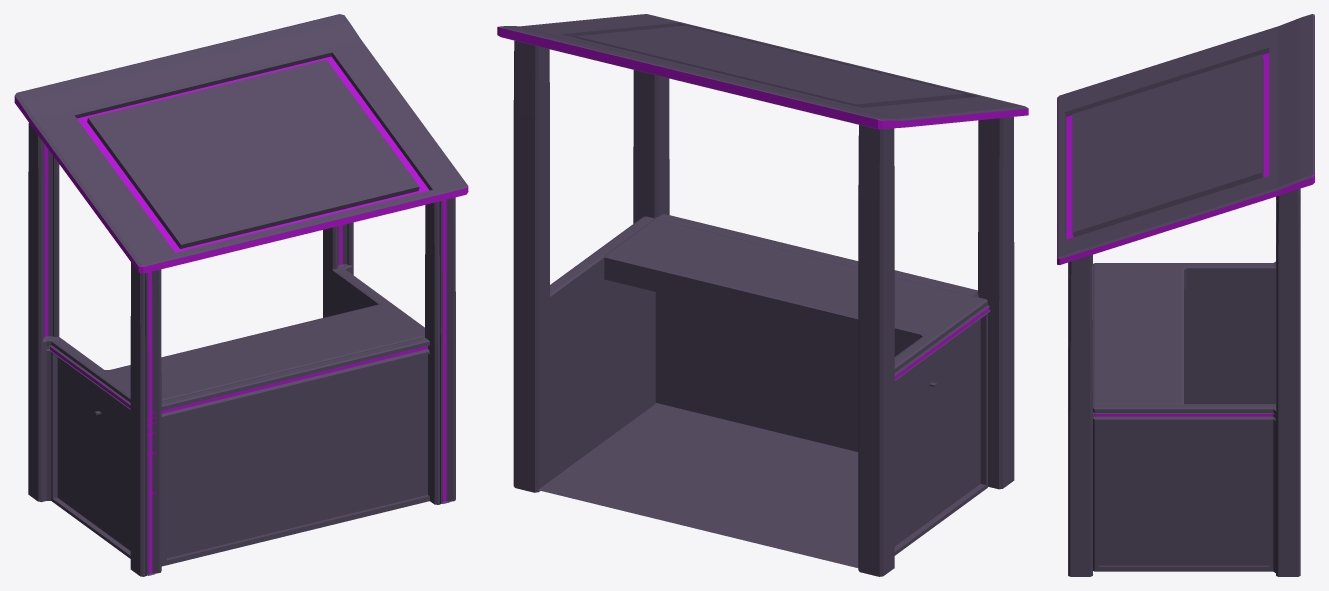
The model's file is lavka cyberpunk.fbx.
The picture shows the model from 3 angles, left to right: view 1: azimuth 30°, elevation 25°; view 2: azimuth 150°, elevation 25°; view 3: azimuth 270°, elevation 25°; orthographic projection. The views are drawn at different scales.
Visible parts, largest first — view 1: Plane; view 2: Plane; view 3: Plane.
Part boxes in pixels (x1,y1,x2,y2): Plane: (14, 14, 468, 576); Plane: (497, 14, 1028, 576); Plane: (1057, 14, 1314, 576).
Size of the model in its own units: 1119 by 1289 by 744.
